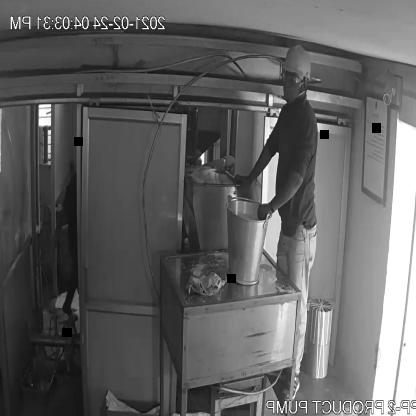helmet: (279, 41, 315, 89)
